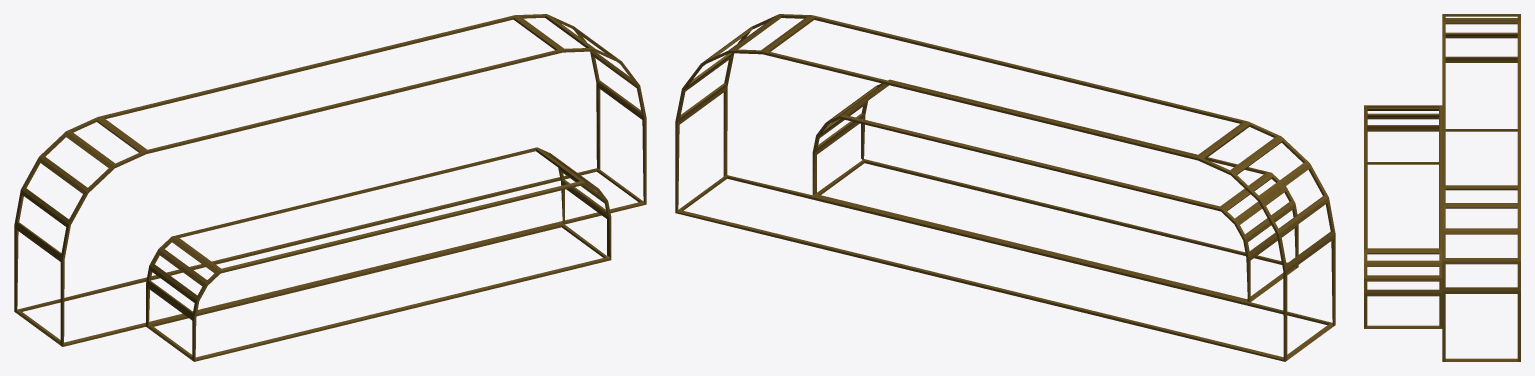
The model's file is fivefold_frame_front_end.glb.
3 renders of one model, left to right at view 1: azimuth 30°, elevation 25°; view 2: azimuth 150°, elevation 25°; view 3: azimuth 270°, elevation 25°, orthographic. The views are drawn at different scales.
Parts seen in each view (by area): view 1: fivefold_frame_front_end; view 2: fivefold_frame_front_end; view 3: fivefold_frame_front_end.
Boxes of the visible parts, x1,y1,x2,y2 form: fivefold_frame_front_end: (14, 14, 646, 361); fivefold_frame_front_end: (675, 14, 1335, 361); fivefold_frame_front_end: (1364, 14, 1520, 361).
Bounding box in the file's own units: 14 × 4 × 4.
